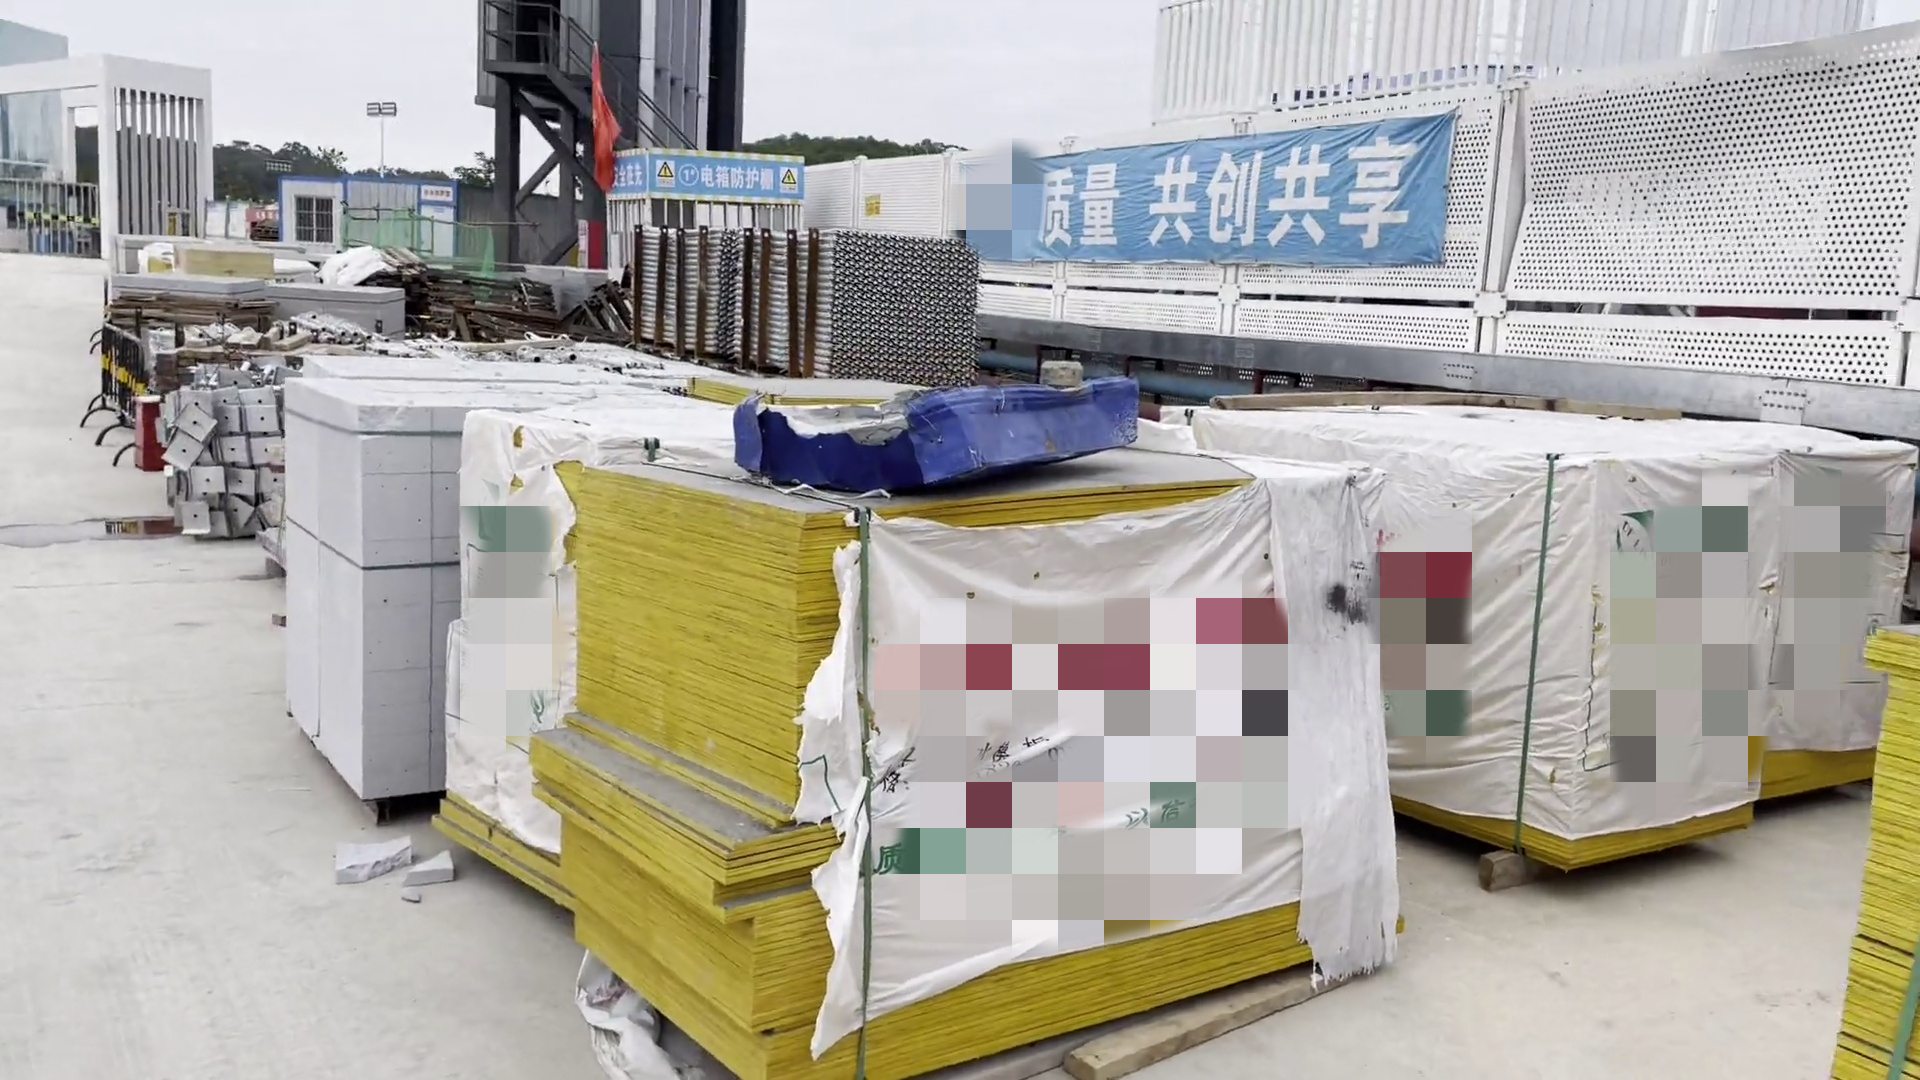board: (524, 419, 1369, 1080), (1822, 587, 1917, 1080)
brick: (249, 338, 622, 802)
scaffold: (595, 229, 993, 385)
slogan: (1036, 128, 1425, 255)
